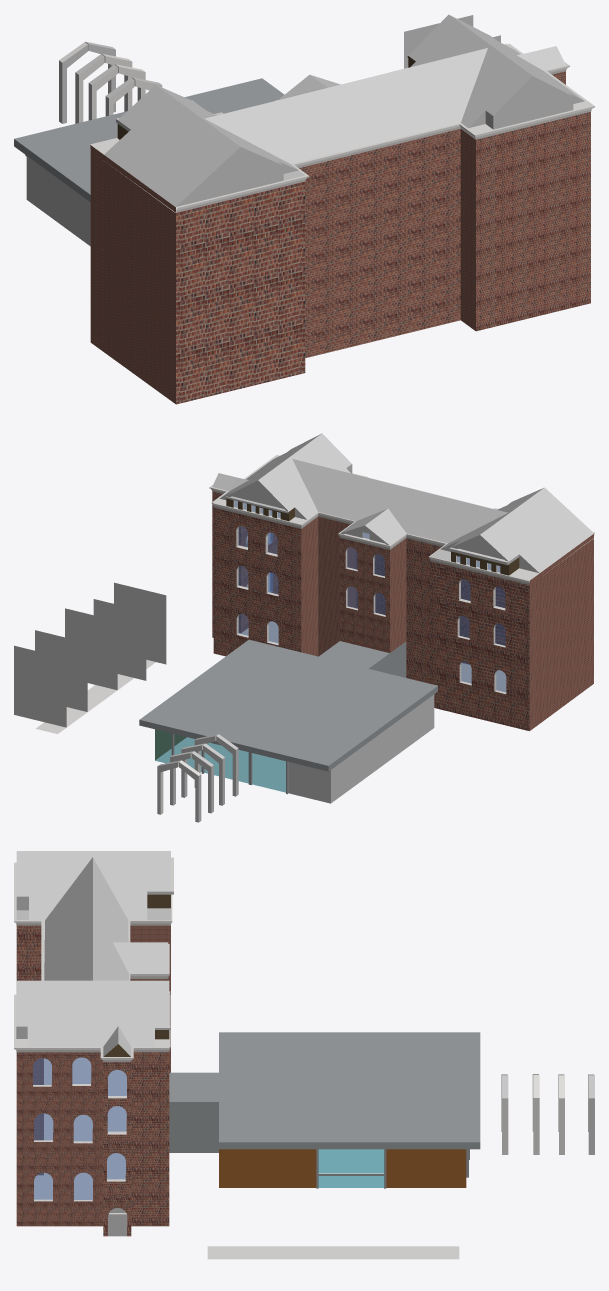
3 renders of one model, top to bottom at view 1: azimuth 30°, elevation 25°; view 2: azimuth 150°, elevation 25°; view 3: azimuth 270°, elevation 25°, orthographic. The views are drawn at different scales.
Parts seen in each view (by area): view 1: Mesh1 Model, Mesh9 Model, Mesh7 Model, Mesh15 Model, Mesh5 Model; view 2: Mesh1 Model, Mesh15 Model, Mesh13 Model, Mesh12 Model, Mesh14 Model, Mesh11 Model, Mesh10 Model, Mesh3 Model, Mesh9 Model; view 3: Mesh1 Model, Mesh10 Model, Mesh2 Model, Mesh4 Model, Mesh8 Model.
Boxes of the visible parts, x1,y1,x2,y2 form: Mesh1 Model: (14, 14, 594, 404); Mesh9 Model: (59, 42, 88, 123); Mesh7 Model: (75, 54, 104, 123); Mesh15 Model: (404, 15, 473, 68); Mesh5 Model: (88, 64, 117, 120); Mesh1 Model: (139, 433, 594, 803); Mesh15 Model: (14, 645, 66, 727); Mesh13 Model: (65, 608, 117, 690); Mesh12 Model: (93, 599, 146, 680); Mesh14 Model: (35, 630, 87, 711); Mesh11 Model: (114, 582, 166, 664); Mesh10 Model: (35, 659, 155, 733); Mesh3 Model: (216, 734, 238, 796); Mesh9 Model: (179, 760, 201, 822); Mesh1 Model: (14, 851, 480, 1236); Mesh10 Model: (207, 1246, 459, 1259); Mesh2 Model: (502, 1075, 508, 1154); Mesh4 Model: (533, 1075, 539, 1154); Mesh8 Model: (588, 1075, 594, 1154).
Bounding box in the file's own units: 60.88 × 26.62 × 63.64.
